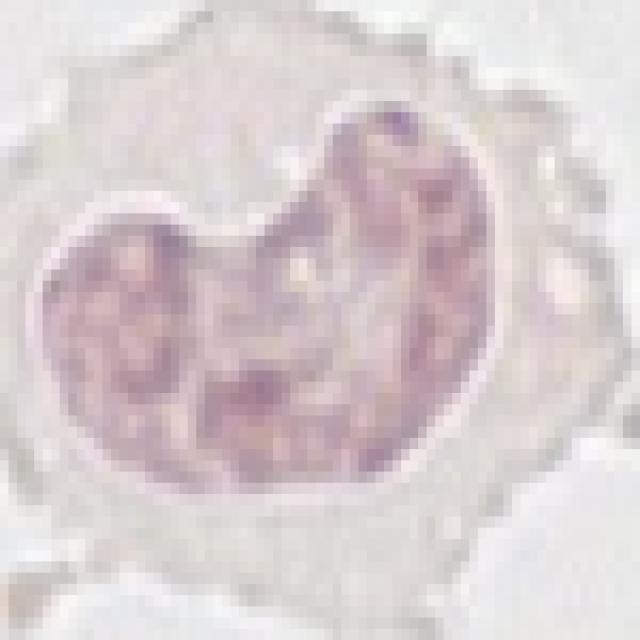nucleus: (15, 60, 583, 576)
